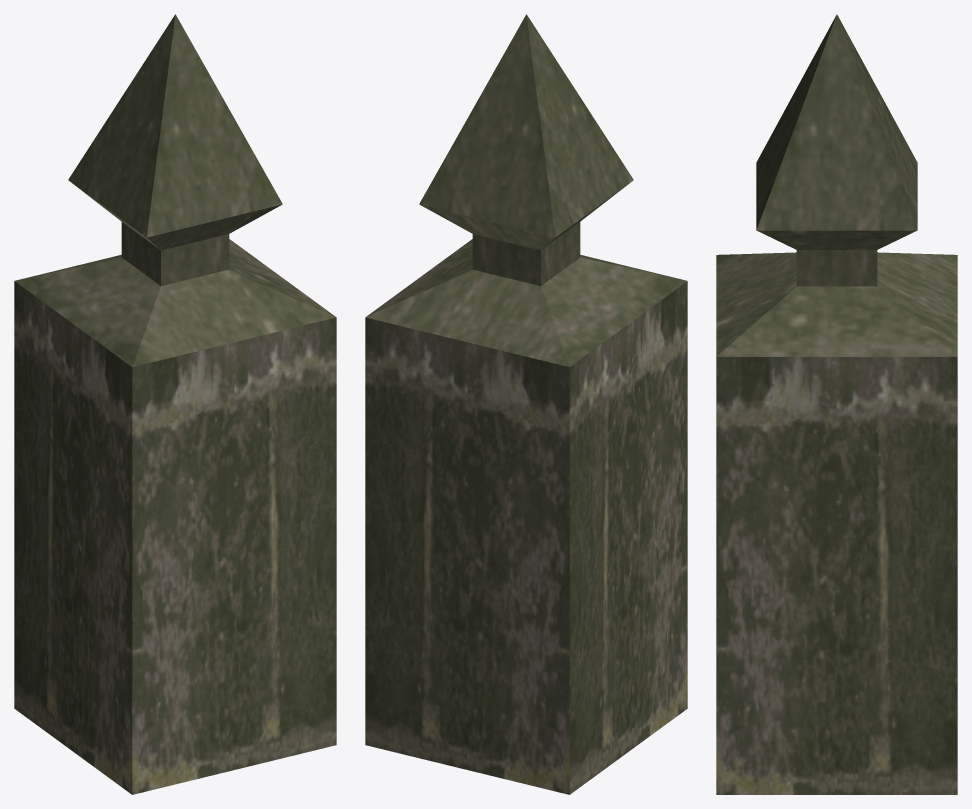
File: Corner_Cap1_L.fbx
The picture shows the model from 3 angles, left to right: view 1: azimuth 30°, elevation 25°; view 2: azimuth 150°, elevation 25°; view 3: azimuth 270°, elevation 25°; orthographic projection. The views are drawn at different scales.
Parts seen in each view (by area): view 1: SE_Corner_Cap_L; view 2: SE_Corner_Cap_L; view 3: SE_Corner_Cap_L.
Boxes of the visible parts, box(x1,y1,x2,y2) form: SE_Corner_Cap_L: box(14, 14, 336, 794); SE_Corner_Cap_L: box(365, 14, 687, 794); SE_Corner_Cap_L: box(716, 14, 957, 794).
Bounding box in the file's own units: 51 × 170 × 51.
